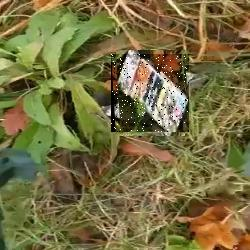restaffald: (111, 54, 189, 132)
